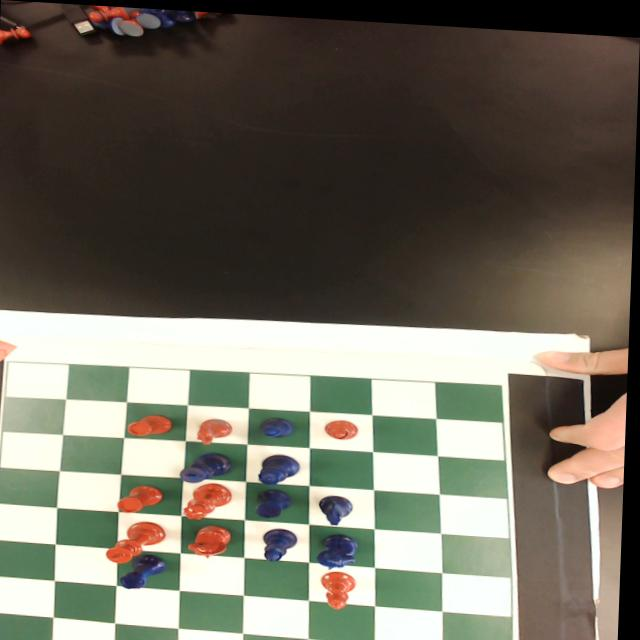B: (263, 523, 302, 561), (259, 413, 299, 436)
K: (179, 446, 240, 483)
N: (318, 528, 365, 568), (321, 490, 362, 524)
Q: (259, 449, 304, 485)
R: (121, 550, 170, 590), (257, 485, 297, 517)
b: (322, 566, 359, 607), (324, 414, 362, 437)
k: (109, 517, 170, 565)
n: (190, 520, 237, 558), (198, 414, 236, 444)
q: (184, 479, 235, 520)
r: (119, 482, 168, 513), (129, 412, 175, 436)
